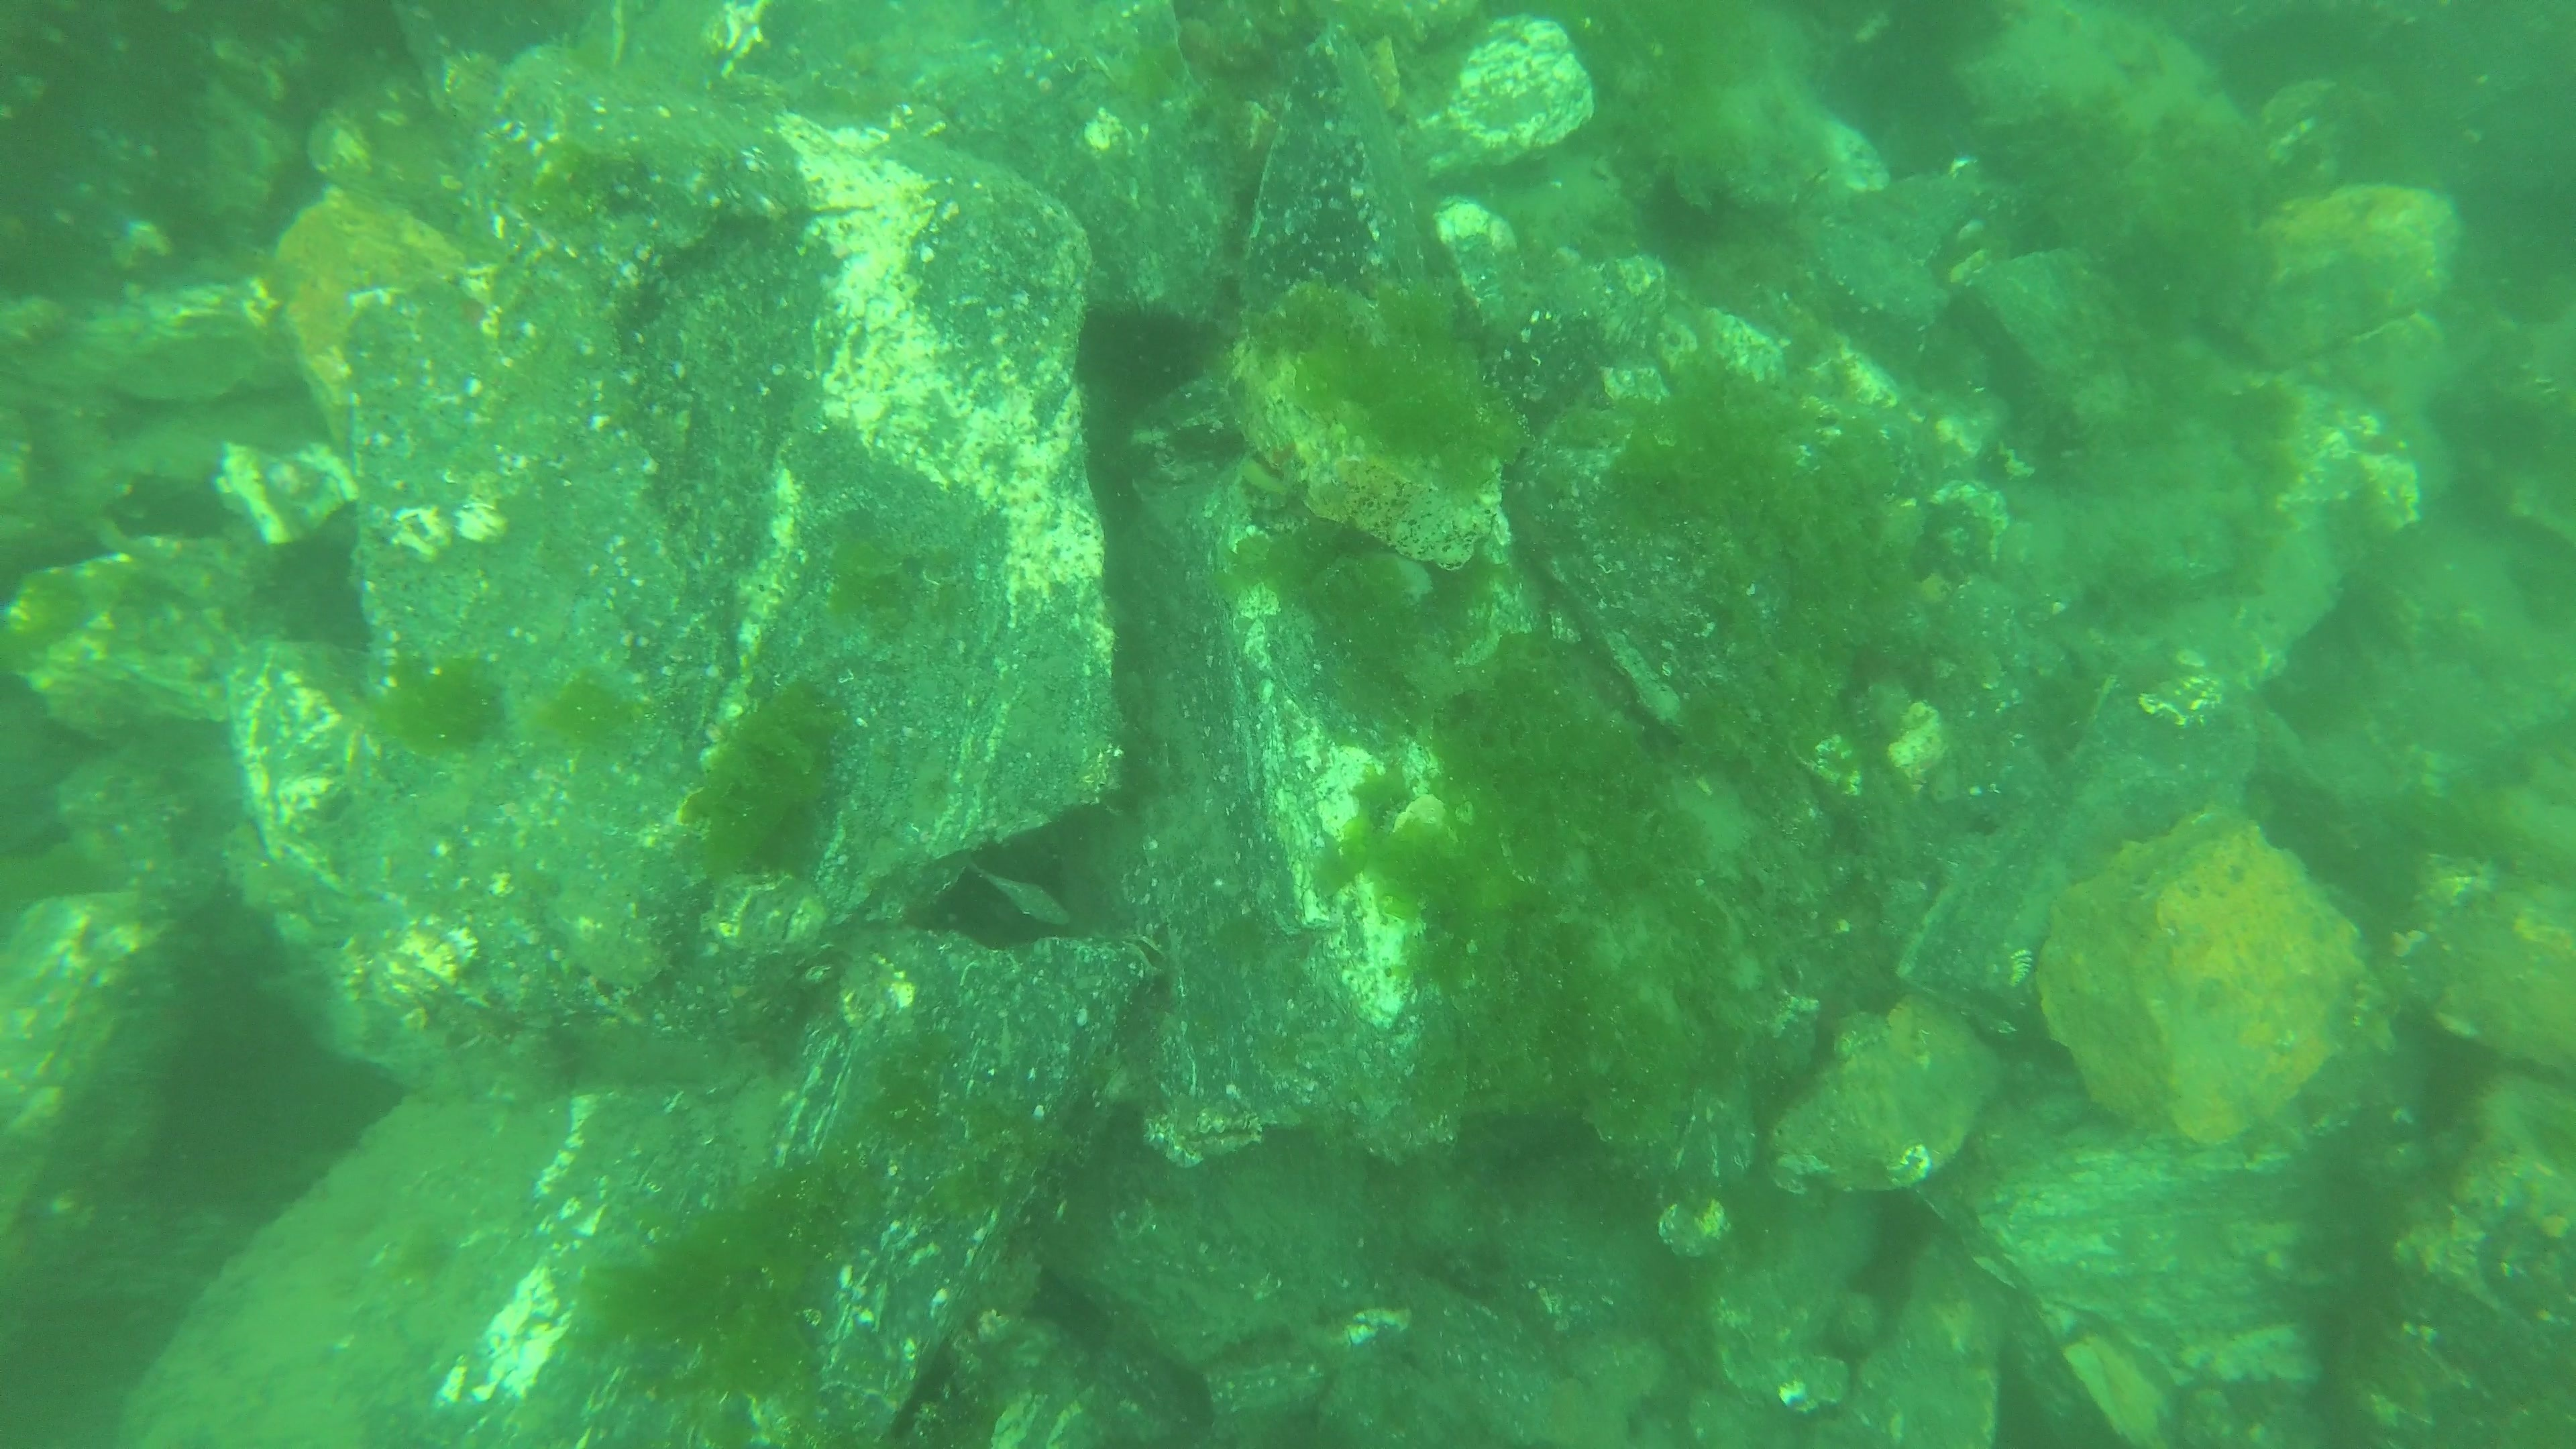echinus: (1079, 297, 1217, 407)
